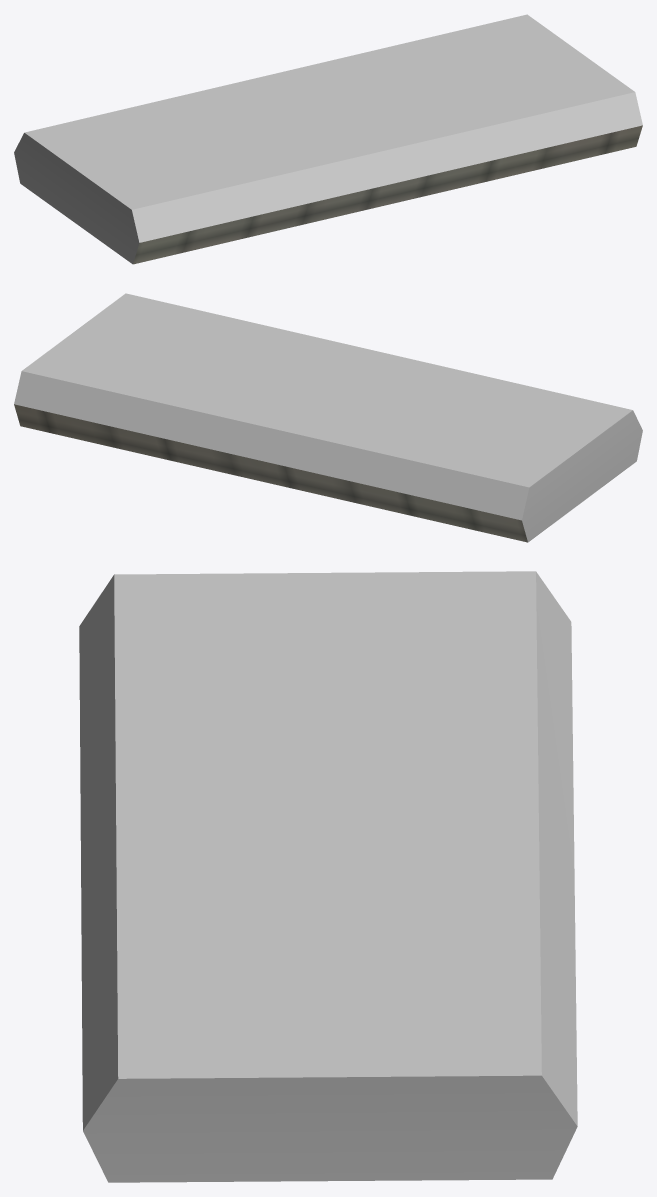
File: roomlight_02.fbx
The picture shows the model from 3 angles, top to bottom: view 1: azimuth 30°, elevation 25°; view 2: azimuth 150°, elevation 25°; view 3: azimuth 270°, elevation 25°; orthographic projection. The views are drawn at different scales.
Visible parts, largest first — view 1: roomlight_02; view 2: roomlight_02; view 3: roomlight_02.
Part boxes in pixels (x1,y1,x2,y2): roomlight_02: [14, 14, 642, 264]; roomlight_02: [14, 293, 642, 542]; roomlight_02: [79, 571, 577, 1182].
Bounding box in the file's own units: 3.09 × 0.3442 × 1.31.
